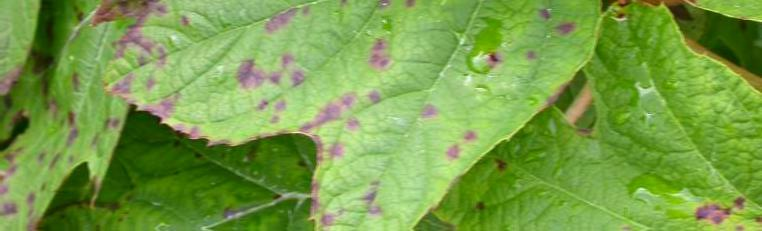Tomato leaf bacterial spot: (98, 0, 589, 231)
